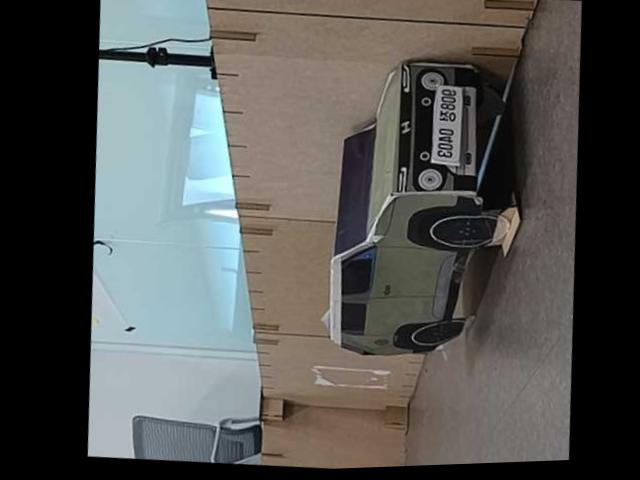car: (306, 42, 538, 370)
id: (425, 82, 467, 164)
